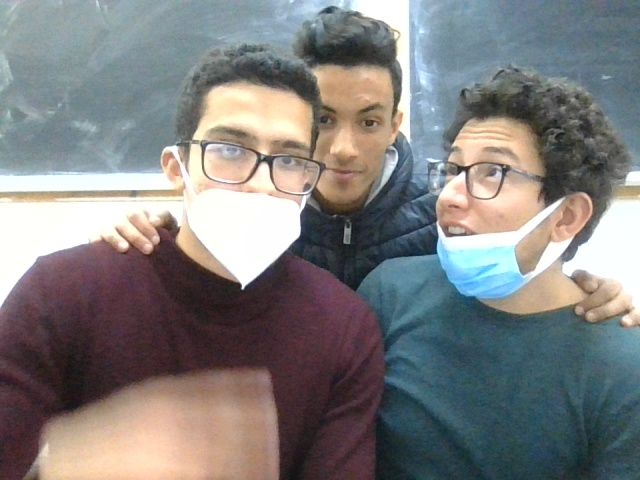mask_weared_incorrect: (431, 58, 605, 311), (177, 47, 312, 282)
without_mask: (302, 6, 420, 200)
